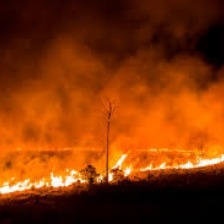incendio: (100, 146, 190, 204), (76, 92, 122, 199), (21, 130, 64, 209), (3, 156, 38, 214), (47, 142, 86, 191), (192, 136, 223, 191)
